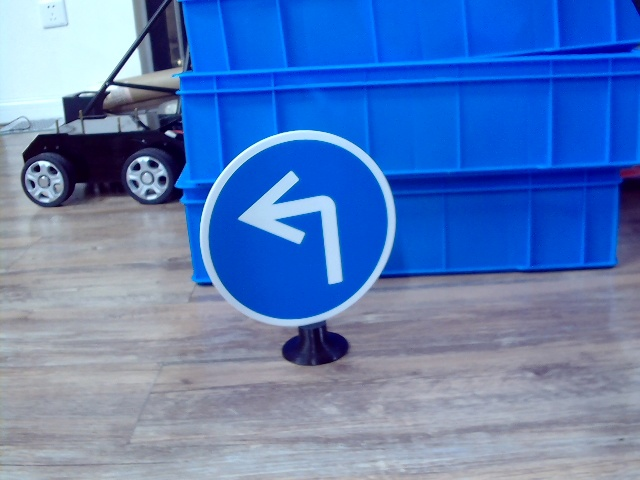turn_left: (238, 166, 351, 284)
